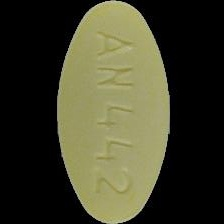65162-442: (0, 0, 224, 224)
